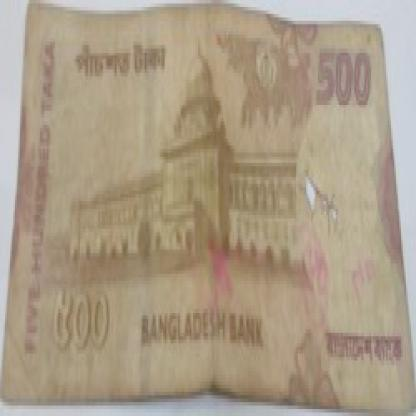500 taka: (65, 31, 178, 104)
currency: (0, 0, 413, 413)
